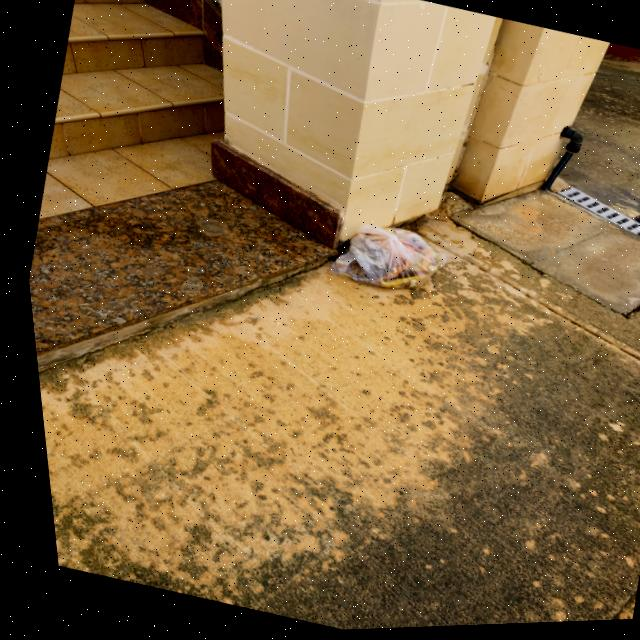Organic Waste -White Bag-: (317, 215, 450, 307)
